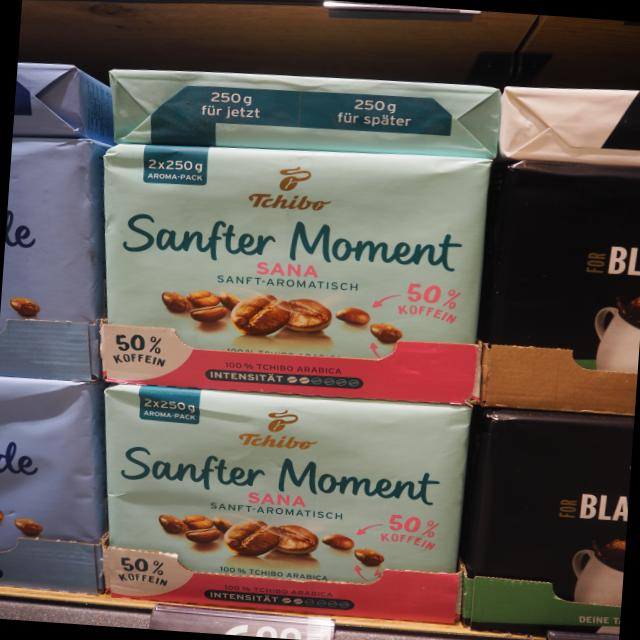BM Gemahlen: (478, 161, 640, 416)
BW Gemahlen: (462, 410, 634, 627)
SM Gemahlen: (99, 141, 494, 405), (103, 382, 473, 624)
